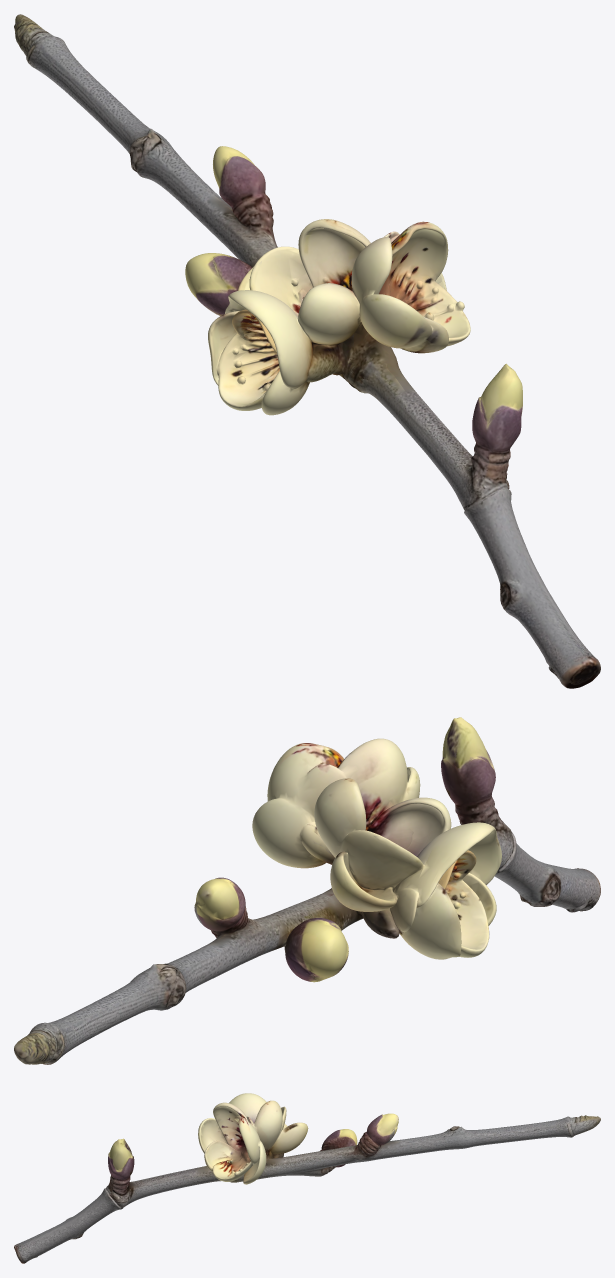
Rendered from lamei.glb.
3 views of the same model, one above another, from view 1: azimuth 30°, elevation 25°; view 2: azimuth 150°, elevation 25°; view 3: azimuth 270°, elevation 25° (orthographic). The views are drawn at different scales.
Visible parts, largest first — view 1: node_0; view 2: node_0; view 3: node_0.
Part boxes in pixels (box(x1,y1,x2,y2)): node_0: box(14, 14, 600, 688); node_0: box(14, 717, 600, 1064); node_0: box(14, 1093, 600, 1263).
Size of the model in its own units: 0.2652 by 0.3489 by 1.16.
Materials: 1 (1 with a texture image).
